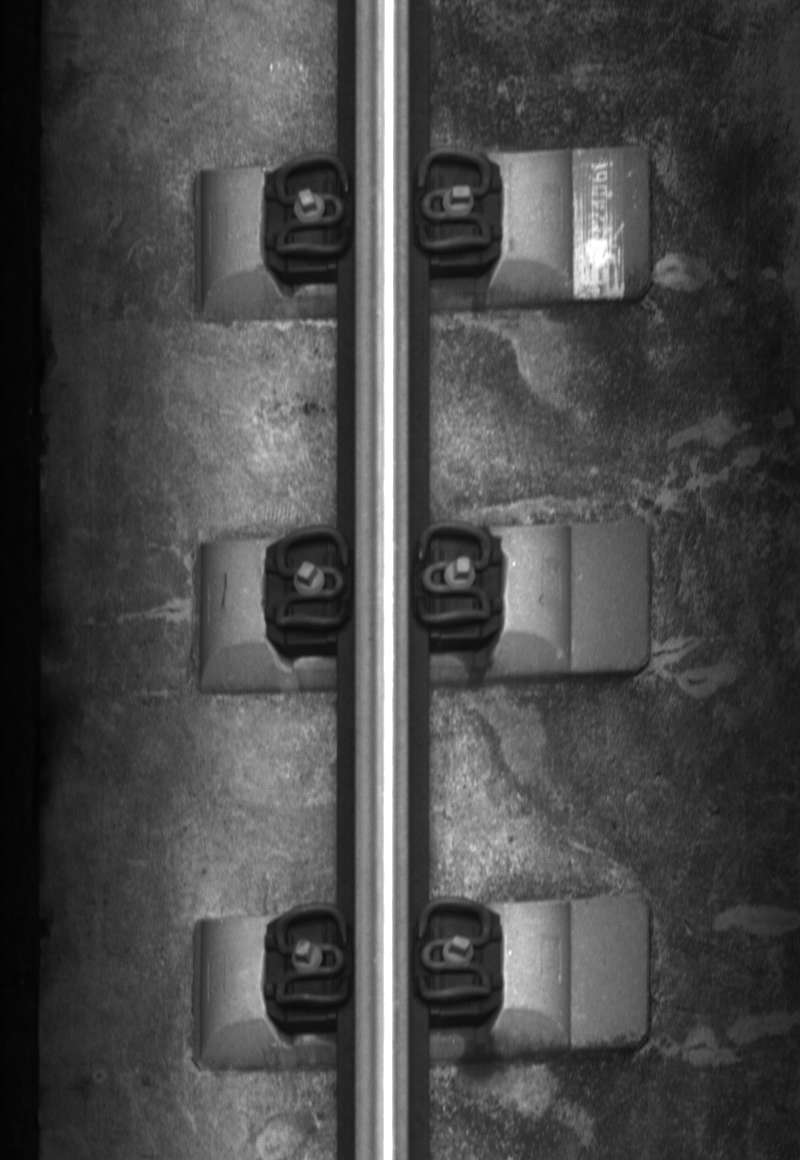l_faster: (268, 900, 355, 1013), (269, 150, 353, 267), (269, 521, 353, 638)
r_faster: (410, 515, 497, 633), (412, 895, 497, 1006), (413, 144, 496, 257)
